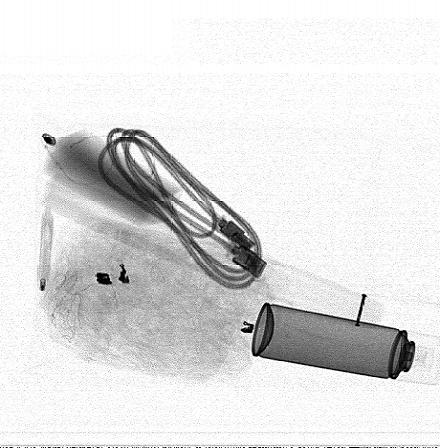Sprayer: (251, 302, 439, 387)
